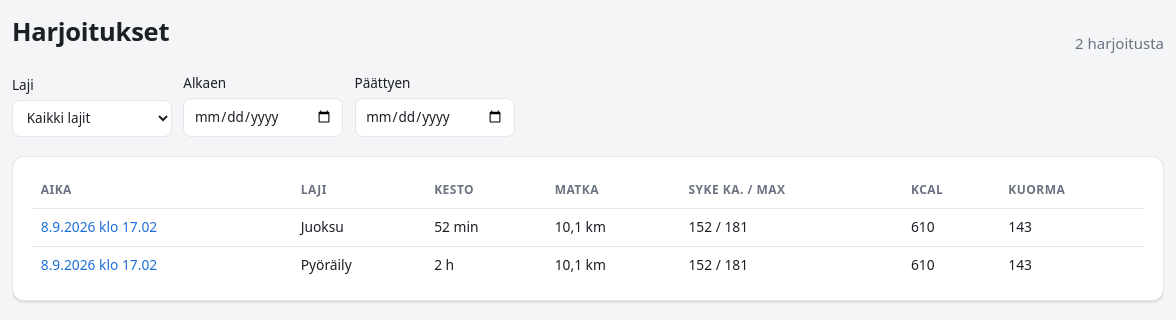
Test: ExercisesPage › lists exercises and filters by sport via the URL
Expected: the text "Juoksu" is shown, [292, 208, 425, 246]
Expected: the text "Pyöräily" is shown, [292, 246, 425, 284]
Select "Pyöräily" in the dropdown labelled "Laji" at (92, 118), box [12, 100, 172, 137]
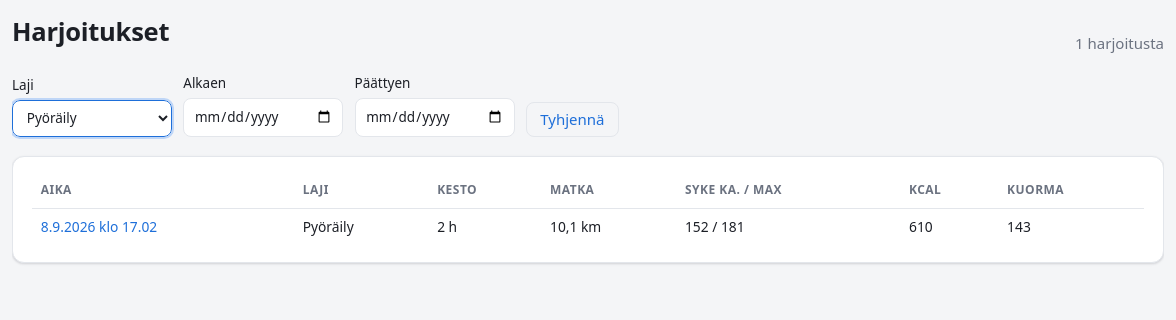
Now the text "1 harjoitusta" is shown, box [1075, 32, 1164, 54]
Now the text "Juoksu" is gone
